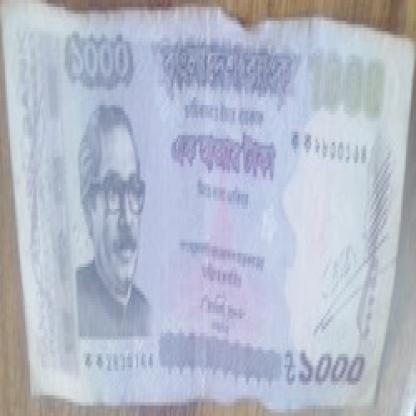One Thousand taka: (306, 42, 390, 128), (62, 31, 140, 90), (281, 347, 368, 395)
